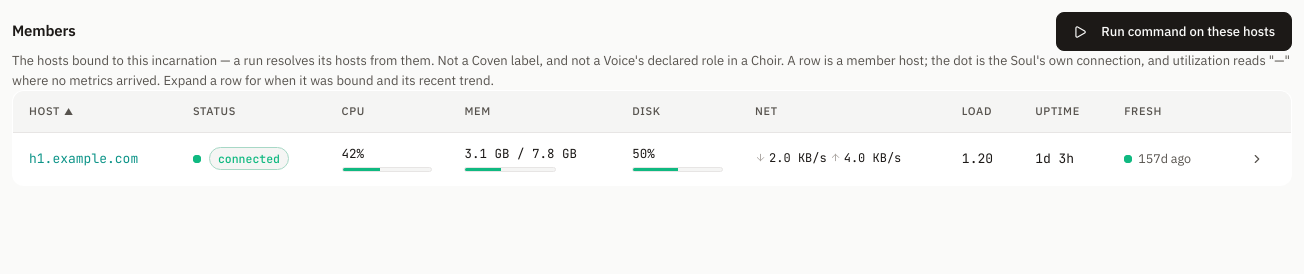
MembersPanel — vitals (roster rows ⋈ telemetry) › expand: window=null → "window empty", no crash
This screenshot has width=1304, height=274.
Click the button named "Show details for host". click: click(1257, 158)
box: [1239, 144, 1275, 172]
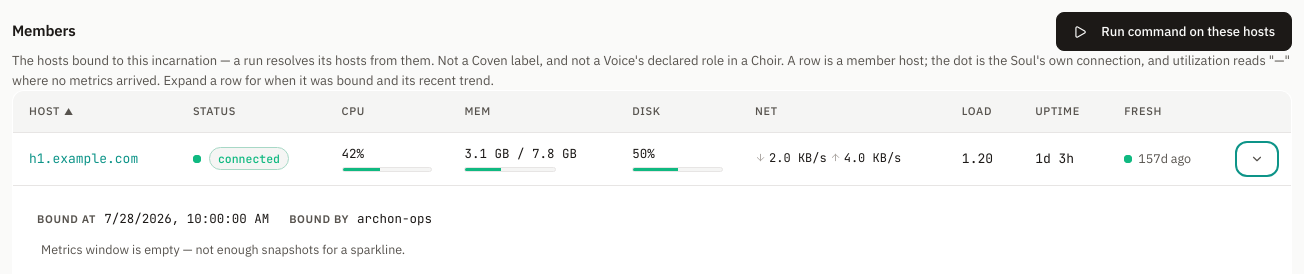
Check: the text with test id "spark-empty" is shown, box [41, 241, 405, 257]
